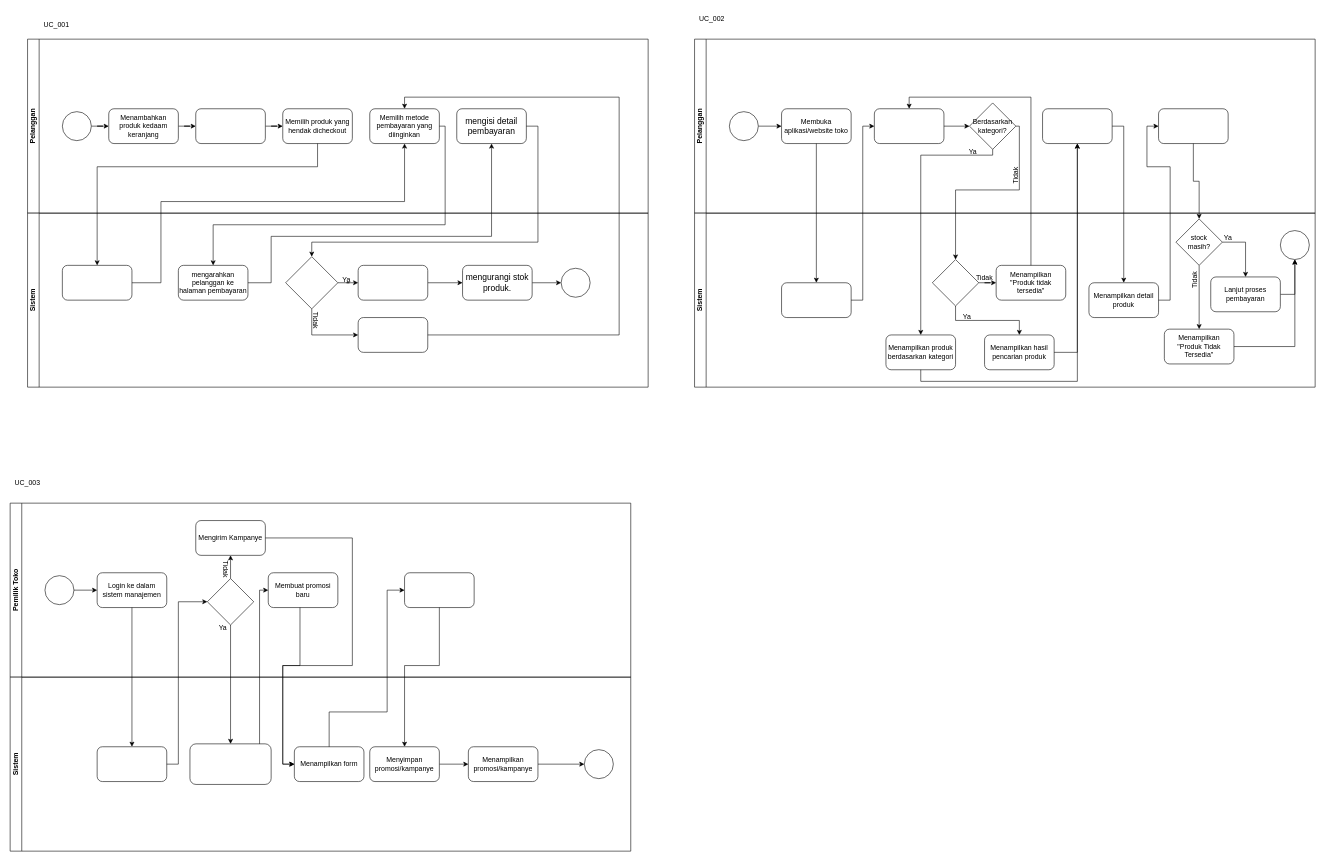
Some shapes in this 1325 by 861 pixel diagram are drawn without their labels. Here are the shapes that lost their labels. From the top down, the centre of each, then its label:
(x=230, y=126): Membuka keranjang
(x=909, y=126): Mencari produk
(x=1077, y=126): Memilih produk
(x=1193, y=126): membeli produk
(x=97, y=282): Menampilkan opsi pembayaran
(x=311, y=282): Pembayaran berhasil?
(x=393, y=282): mengupdate status pesanan menjadi "Dibayar"
(x=816, y=300): Menampilkan halaman utama
(x=955, y=282): produk ditemukan?
(x=393, y=334): menampilkan pesan kesalahan dan alasannya
(x=230, y=601): membuat promosi
(x=439, y=590): Mengisi form
(x=132, y=764): Menampilkan dashboard utama, menampilkan laporan penjualan
(x=230, y=763): menampilkan halaman manajemen promosi dan pemasaran
